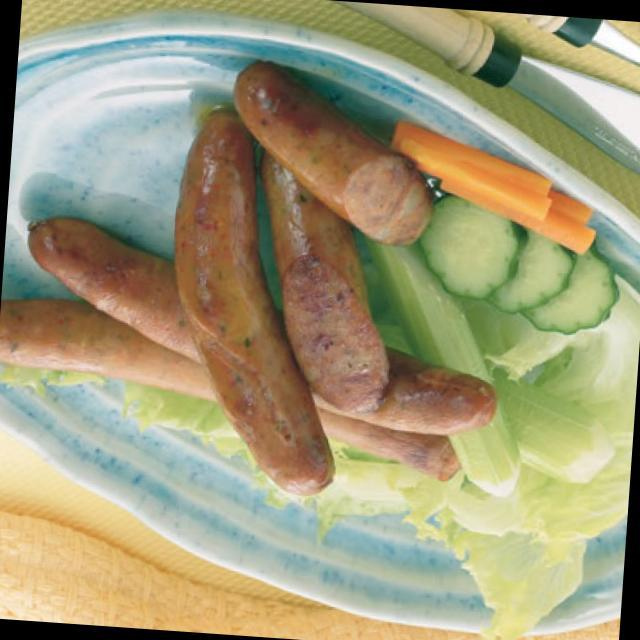Cucumber: (418, 216, 632, 350)
Sausage: (0, 40, 489, 514)
